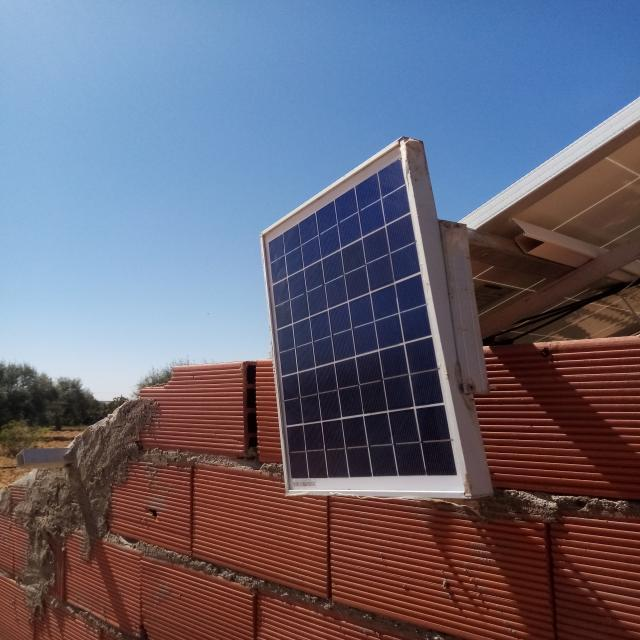no faulty: (261, 139, 468, 496)
